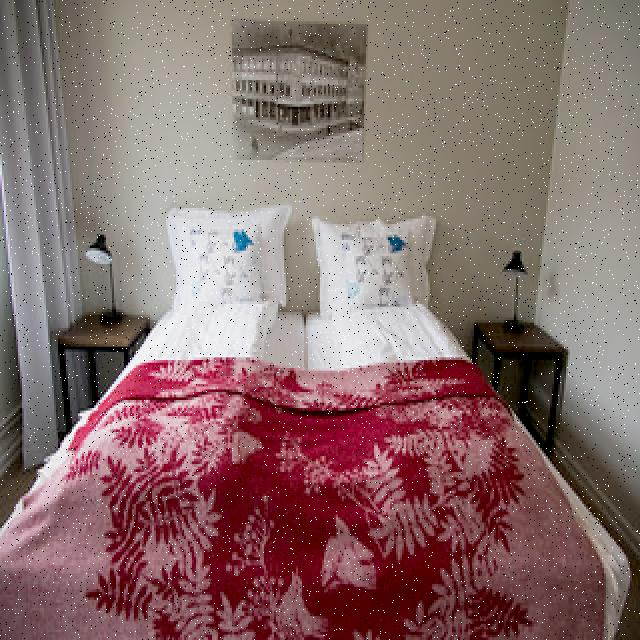bed: (37, 204, 520, 628)
